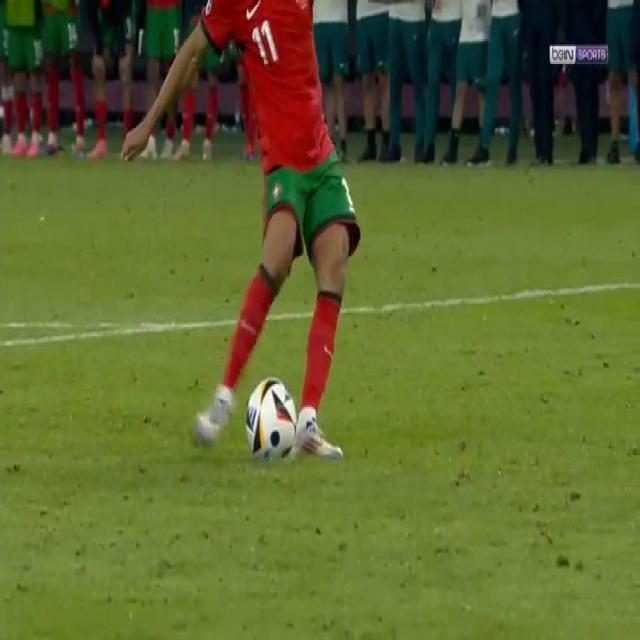ball: (241, 377, 320, 511)
joueur: (180, 0, 388, 487)
